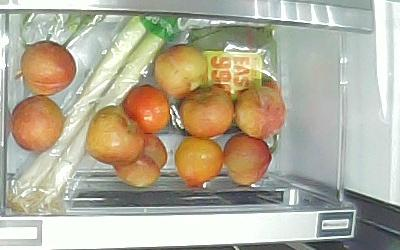prune: (85, 105, 145, 164), (20, 39, 76, 96), (154, 44, 209, 100), (11, 96, 65, 151), (114, 134, 170, 187), (179, 86, 234, 138), (236, 87, 285, 139), (224, 134, 272, 186), (174, 137, 223, 186), (124, 85, 171, 134)
